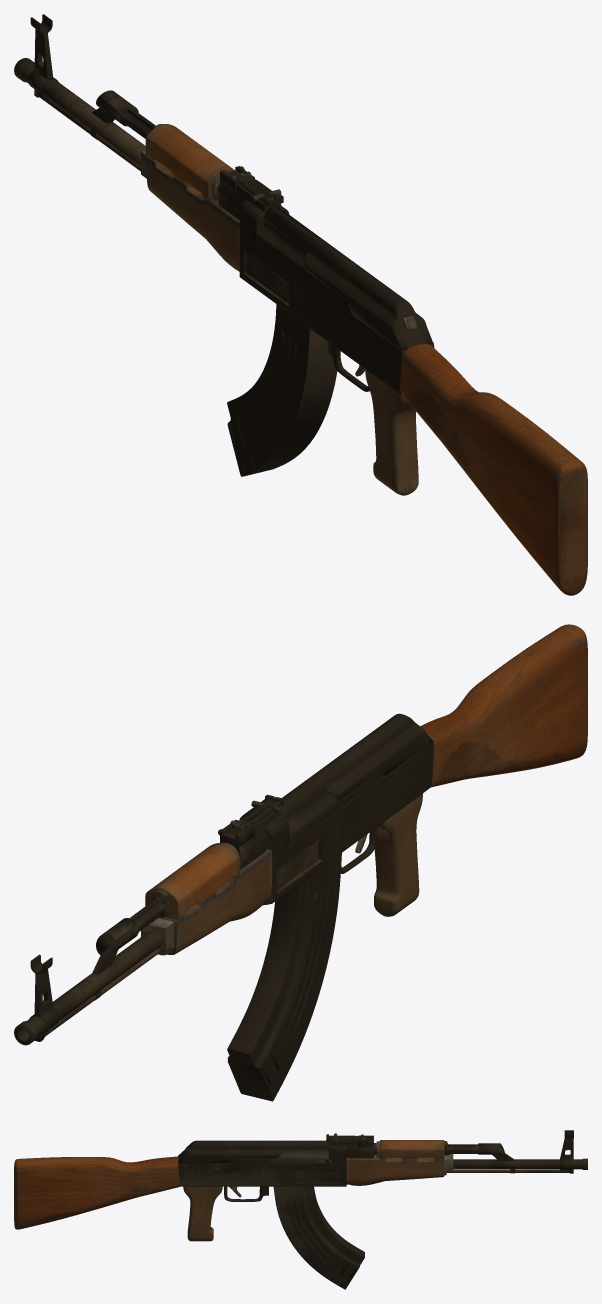
3 views of the same model, one above another, from view 1: azimuth 30°, elevation 25°; view 2: azimuth 150°, elevation 25°; view 3: azimuth 270°, elevation 25° (orthographic). The views are drawn at different scales.
Visible parts, largest first — view 1: AK47; view 2: AK47; view 3: AK47.
Part boxes in pixels (left/top/right/bottom): AK47: left=14, top=14, right=587, bottom=595; AK47: left=14, top=624, right=587, bottom=1101; AK47: left=14, top=1130, right=587, bottom=1289.
Size of the model in its own units: 0.0498 by 0.3402 by 1.15.
Materials: 1 (1 with a texture image).
